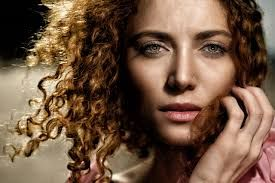no-mask: (123, 1, 243, 148)
